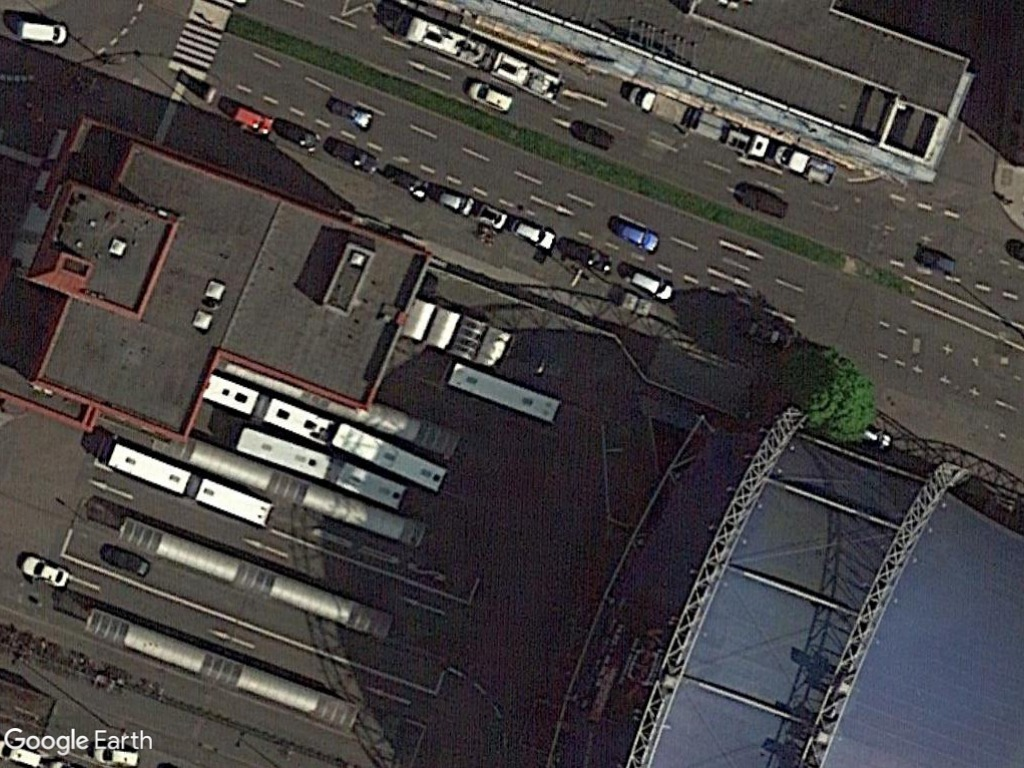bus: (442, 356, 569, 429), (330, 418, 450, 495), (226, 422, 338, 481), (103, 437, 197, 501), (188, 474, 276, 530)
car: (18, 551, 73, 592), (463, 77, 519, 116), (625, 266, 677, 304)
van: (15, 17, 72, 48)
